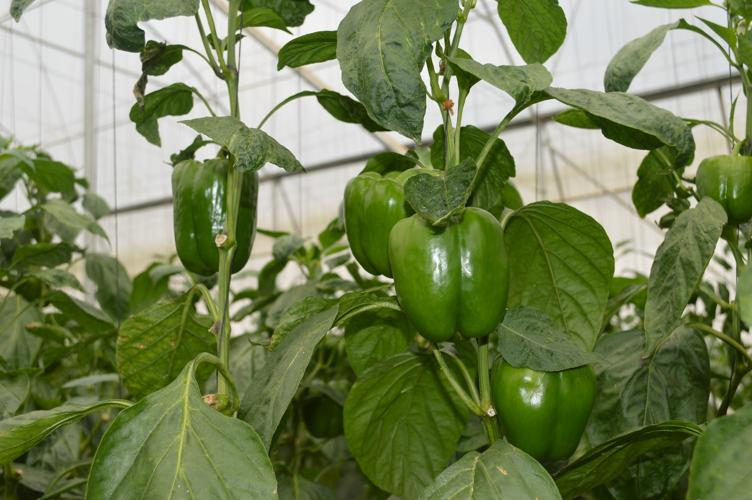BellPepper: (380, 218, 516, 344), (337, 159, 448, 293), (159, 153, 271, 278), (491, 349, 602, 470), (689, 142, 752, 224)
